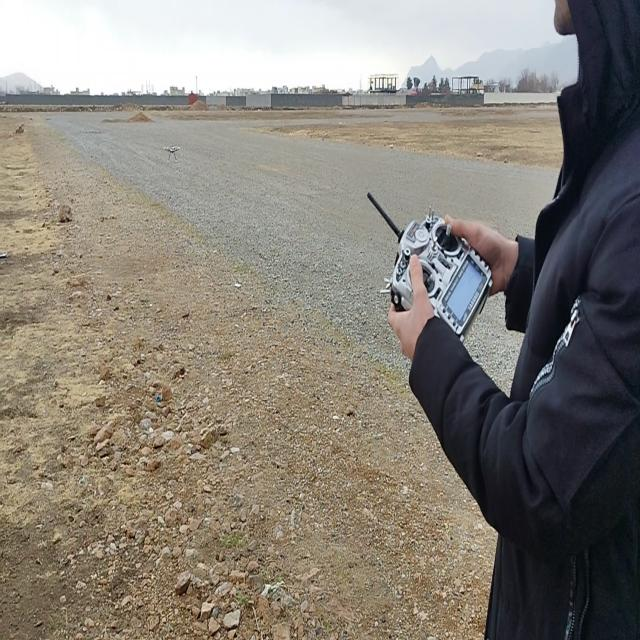drone: (162, 143, 181, 163)
